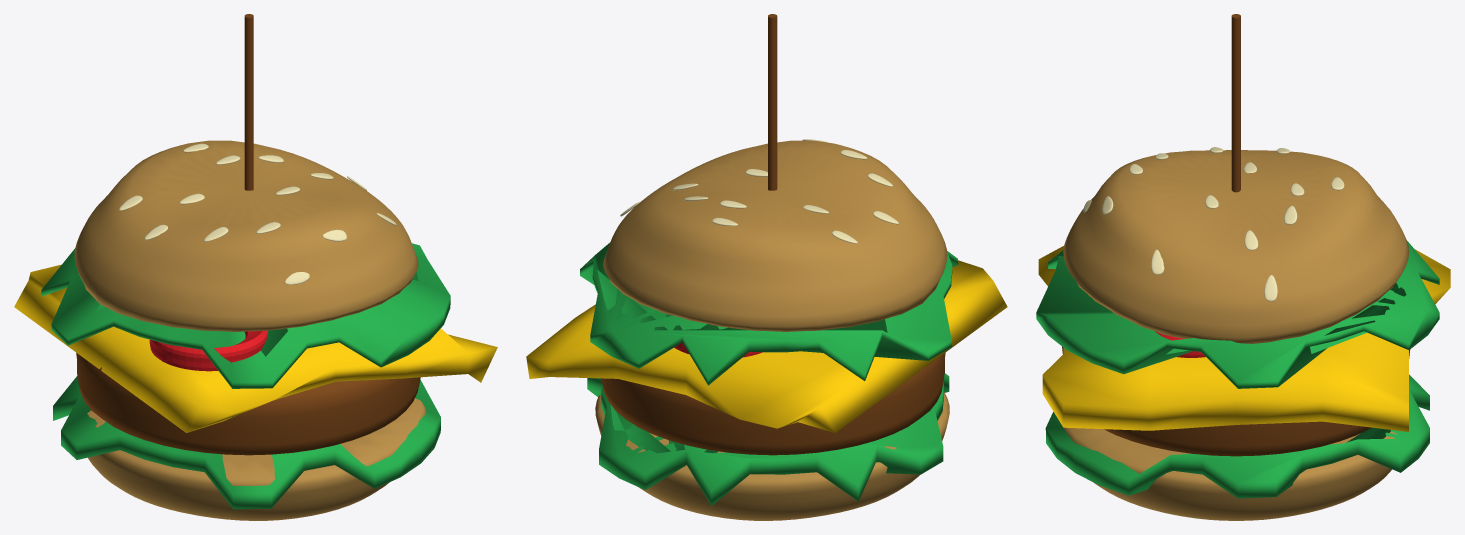
The model's file is Hamburger.fbx.
3 views of the same model, side by side, from view 1: azimuth 30°, elevation 25°; view 2: azimuth 150°, elevation 25°; view 3: azimuth 270°, elevation 25° (orthographic).
Parts seen in each view (by area): view 1: Cube; view 2: Cube; view 3: Cube.
Part boxes in pixels (bbox=[...]): Cube: bbox=[14, 14, 497, 520]; Cube: bbox=[526, 14, 1007, 520]; Cube: bbox=[1036, 14, 1450, 520].
Bounding box in the file's own units: 3.81 × 4.69 × 3.83.
